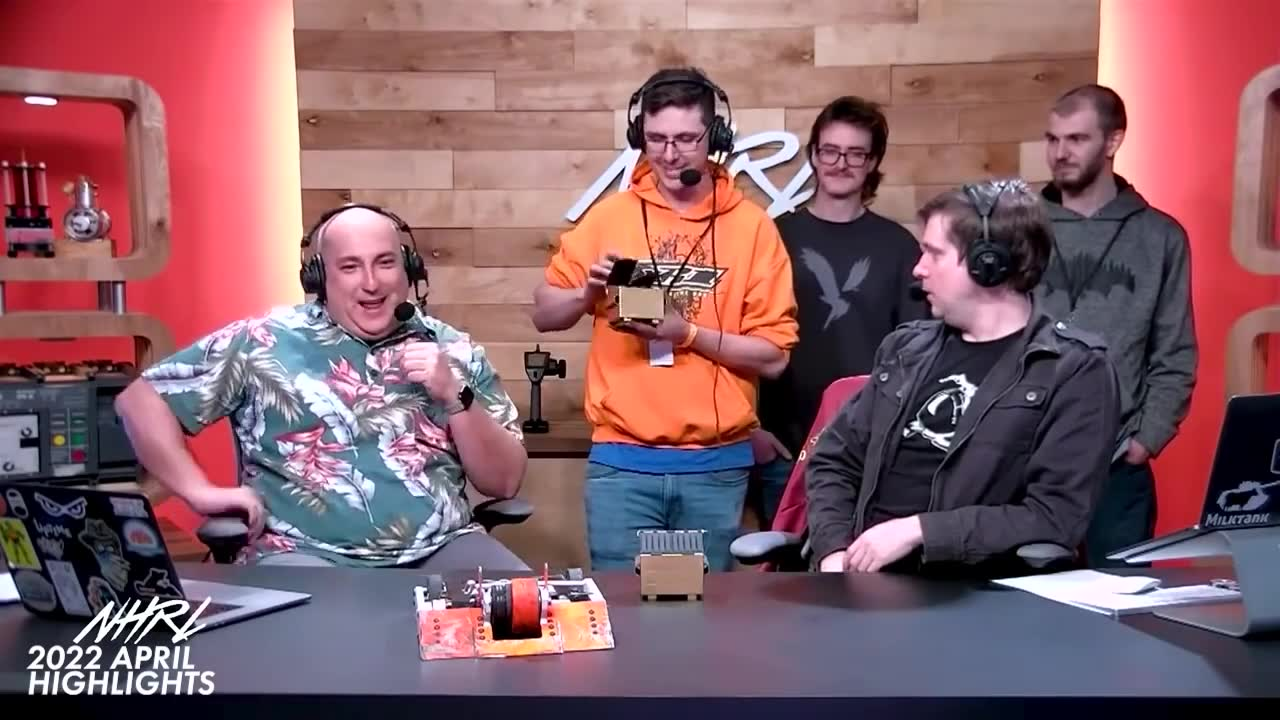combatbot: (399, 560, 624, 668)
